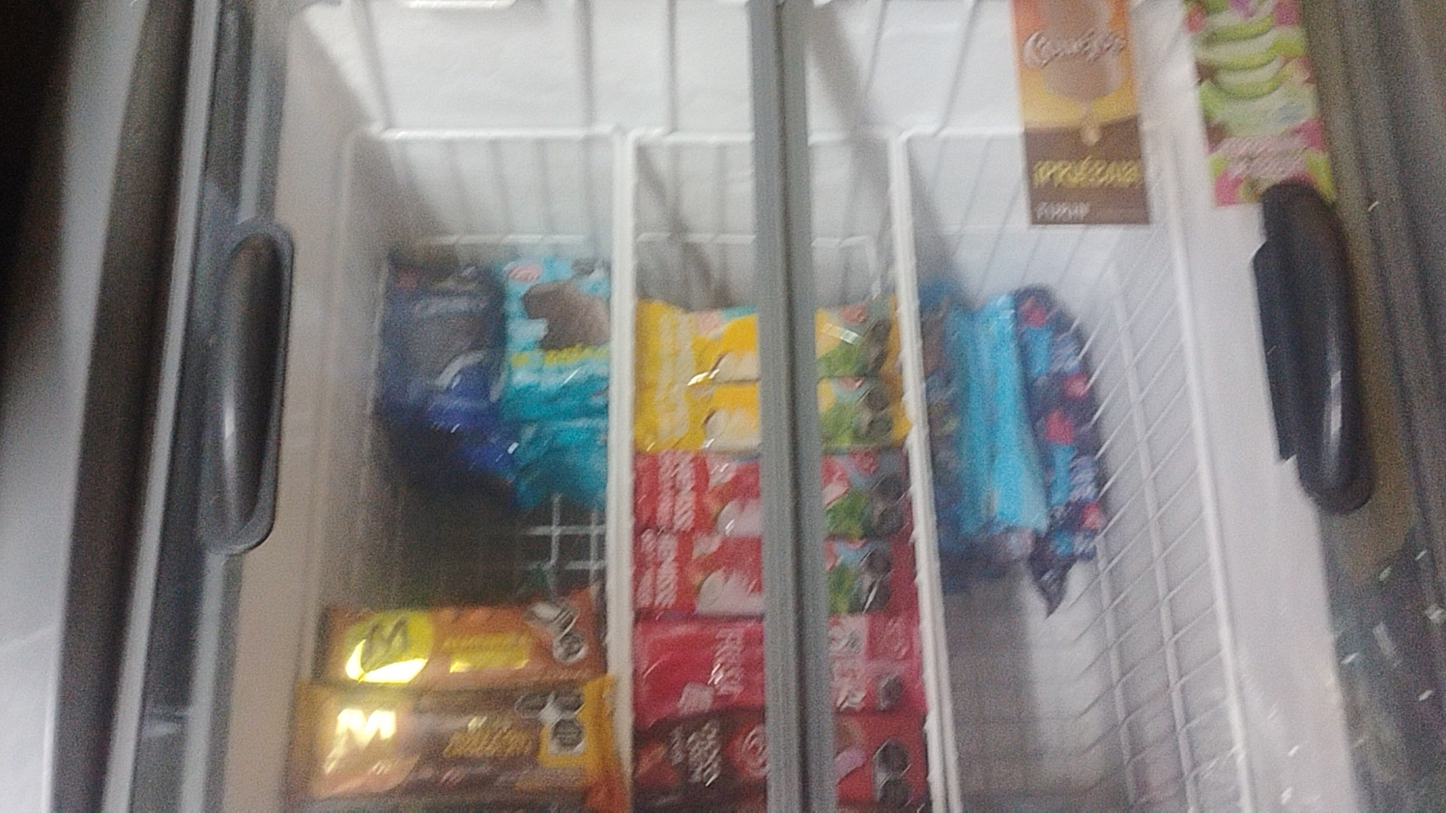rejilla: (1160, 117, 1252, 812), (893, 143, 942, 811), (298, 147, 350, 675), (617, 148, 634, 763), (609, 146, 620, 672), (385, 128, 615, 138), (666, 136, 749, 143), (944, 130, 1017, 135), (812, 137, 886, 140)
